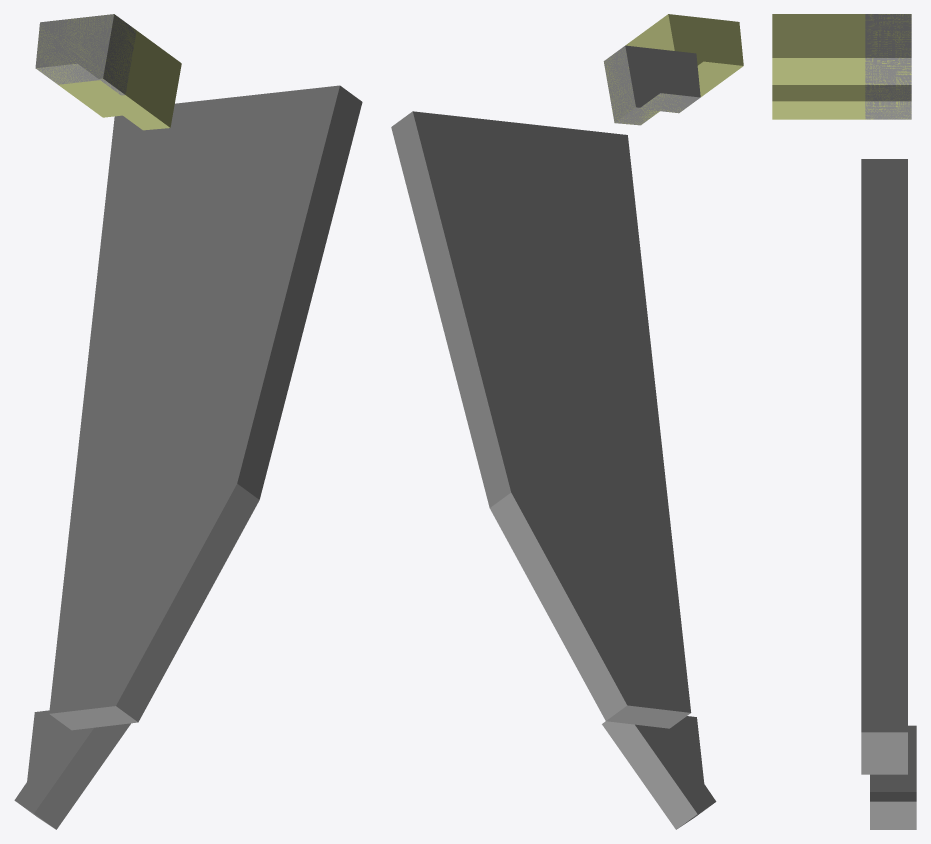
The picture shows the model from 3 angles, left to right: view 1: azimuth 30°, elevation 25°; view 2: azimuth 150°, elevation 25°; view 3: azimuth 270°, elevation 25°; orthographic projection. The views are drawn at different scales.
Visible parts, largest first — view 1: 0_1_2_0_3_3_1_2_0; view 2: 0_1_2_0_3_3_1_2_0; view 3: 0_1_2_0_3_3_1_2_0.
Boxes of the visible parts, bbox=[...] form: 0_1_2_0_3_3_1_2_0: bbox=[14, 14, 362, 829]; 0_1_2_0_3_3_1_2_0: bbox=[391, 14, 743, 829]; 0_1_2_0_3_3_1_2_0: bbox=[772, 14, 916, 829].
Bounding box in the file's own units: 24.75 × 58.26 × 9.31.
